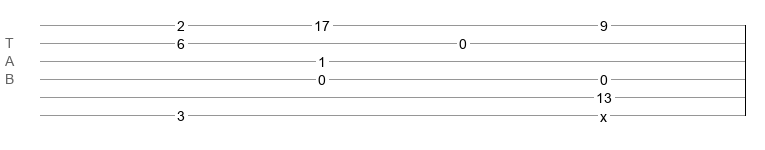0: (318, 72, 326, 82), (459, 36, 467, 46), (600, 72, 608, 82)
1: (318, 54, 326, 64)
13: (596, 90, 612, 100)
17: (314, 18, 330, 28)
2: (177, 18, 185, 28)
3: (177, 108, 185, 118)
6: (177, 36, 185, 46)
9: (600, 18, 608, 28)
x: (600, 109, 607, 117)
